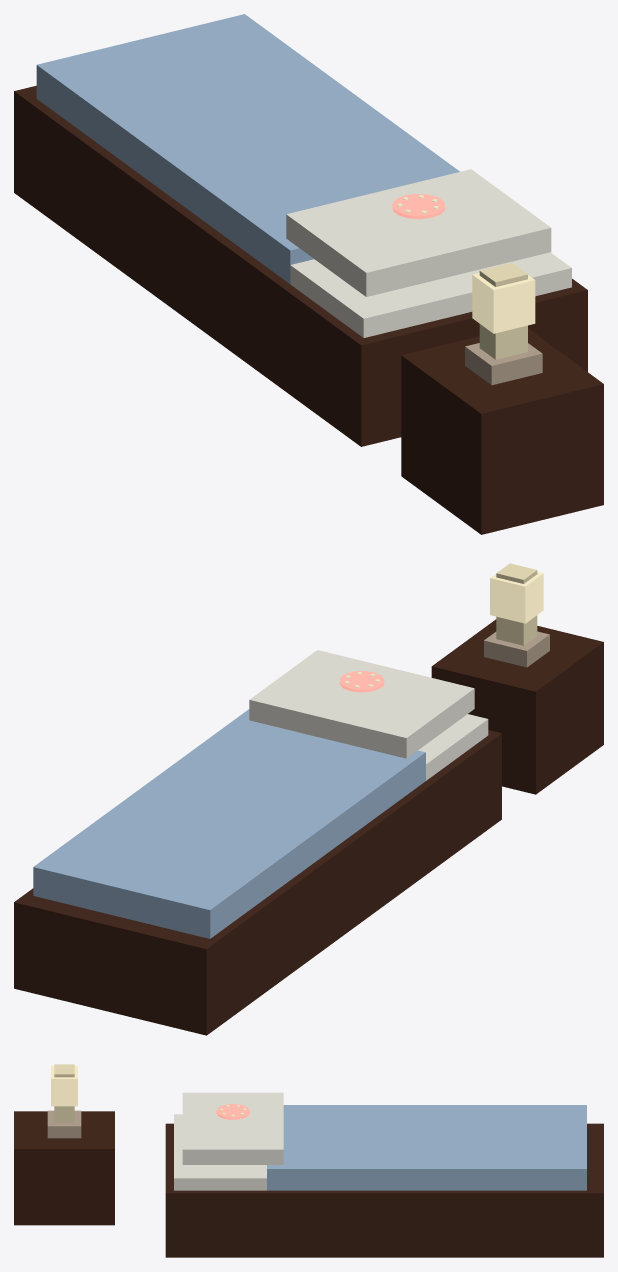
File: cama_quarto_tito.glb
The picture shows the model from 3 angles, top to bottom: view 1: azimuth 30°, elevation 25°; view 2: azimuth 150°, elevation 25°; view 3: azimuth 270°, elevation 25°; orthographic projection. The views are drawn at different scales.
Visible parts, largest first — view 1: Malha_0; view 2: Malha_0; view 3: Malha_0.
Part boxes in pixels (x1=…): Malha_0: x1=14, y1=14, x2=603, y2=534; Malha_0: x1=14, y1=563, x2=603, y2=1035; Malha_0: x1=14, y1=1064, x2=603, y2=1257.
Size of the model in its own units: 0.98 by 0.9 by 3.5.
